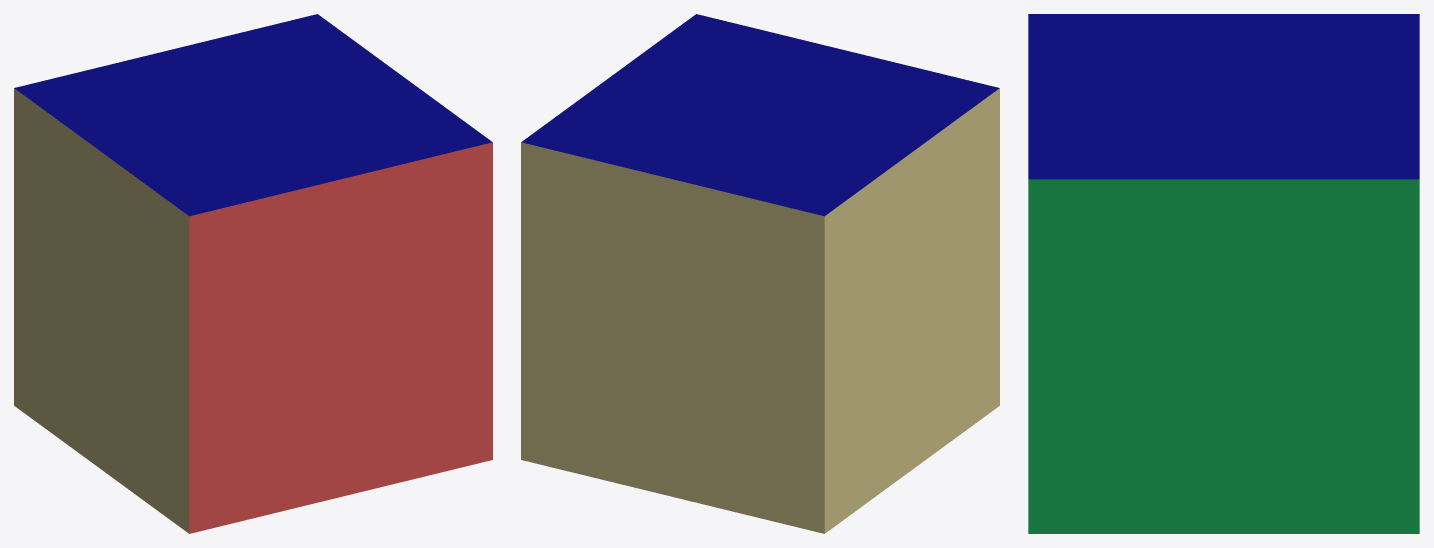
File: abstractPlane.obj
3 renders of one model, left to right at view 1: azimuth 30°, elevation 25°; view 2: azimuth 150°, elevation 25°; view 3: azimuth 270°, elevation 25°, orthographic. The views are drawn at different scales.
Visible parts, largest first — view 1: Pyramid02, Pyramid03, Pyramid05; view 2: Pyramid01, Pyramid03, Pyramid05; view 3: Pyramid04, Pyramid05.
Part boxes in pixels (x1,y1,x2,y2): Pyramid02: (189,142,492,533); Pyramid03: (14,88,189,533); Pyramid05: (14,14,492,216); Pyramid01: (521,142,824,533); Pyramid03: (824,88,999,533); Pyramid05: (521,14,999,216); Pyramid04: (1028,179,1419,533); Pyramid05: (1028,14,1419,179).
Size of the model in its own units: 0.5 by 0.5 by 0.5.
